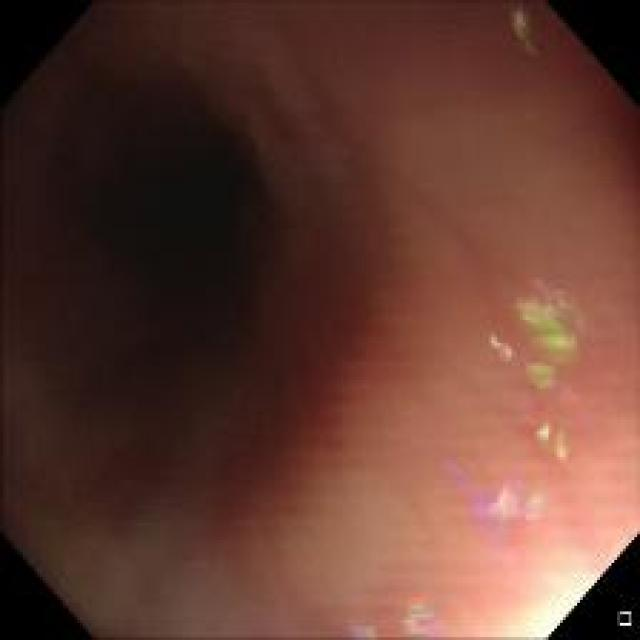color misalignment: (489, 266, 585, 392), (426, 448, 539, 536), (371, 589, 455, 632), (521, 399, 568, 464), (508, 1, 546, 66), (350, 620, 454, 638)
contrast: (29, 51, 401, 502)
saturation: (518, 554, 604, 631)
